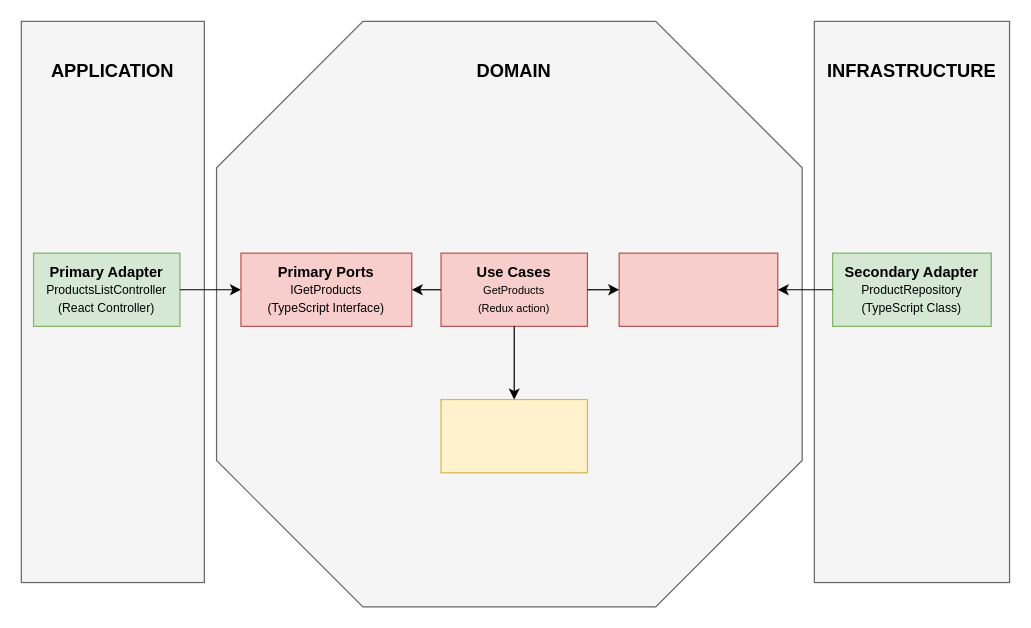
Some shapes in this 1031 by 628 pixel diagram are drawn without their labels. Each missing label, with the box of its shape:
Entities Product (TypeScript Class): (440, 398, 587, 473)
Secondary Ports IProductRepository (TypeScript Interface): (618, 252, 778, 326)
